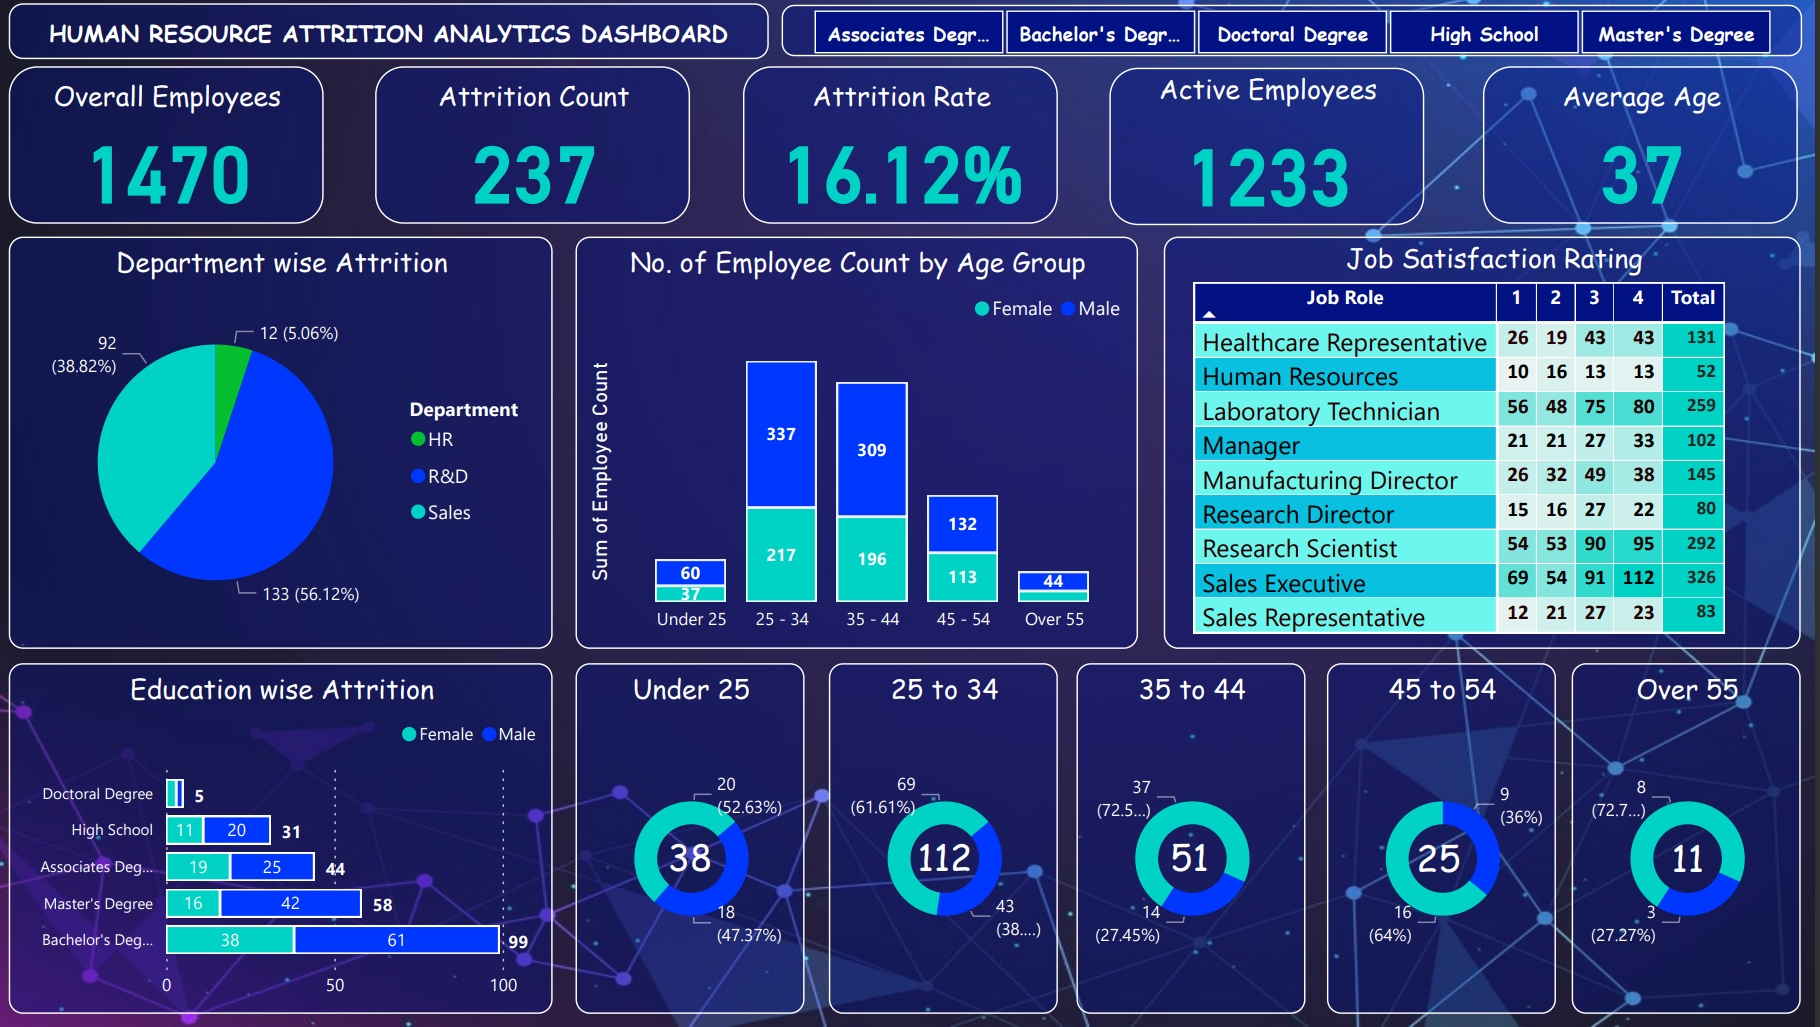

Layout of this report page (visuals, bound fields, positions):
{"tool":"powerbi","page":{"name":"Page 1","canvas":[1280,720],"ordinal":0},"visuals":[{"type":"card","title":"Overall Employees","fields":{"Values":["Sum(HR data.Employee Count)"]},"box":[17.5,49,220,110],"z":0},{"type":"card","title":"Attrition Count","fields":{"Values":["Sum(HR data.Attrition Count)"]},"box":[273.8,48.8,220,110],"z":1},{"type":"card","title":"Attrition Rate","fields":{"Values":["HR data.Attrition Rate"]},"box":[531.2,48.8,220,110],"z":2},{"type":"card","title":"Active Employees","fields":{"Values":["HR data.Active Employees"]},"box":[787,50,220,110],"z":3},{"type":"card","title":"Average Age","fields":{"Values":["Avg(HR data.Age)"]},"box":[1047.5,48.8,220,110],"z":4},{"type":"pieChart","title":"Department wise Attrition","fields":{"Category":["HR data.Department","HR data.Gender","HR data.CF_age band"],"Y":["Sum(HR data.Attrition Count)"]},"box":[17.5,167.5,380,287.5],"z":5},{"type":"columnChart","title":"No. of Employee Count by Age Group","fields":{"Category":["HR data.CF_age band"],"Y":["Sum(HR data.Employee Count)"],"Series":["HR data.Gender"]},"box":[413.8,167.5,392.5,287.5],"z":6},{"type":"pivotTable","title":"Job Satisfaction Rating","fields":{"Rows":["HR data.Job Role"],"Columns":["HR data.Job Satisfaction"],"Values":["Sum(HR data.Employee Count)"]},"box":[825,167.5,445,287.5],"z":7},{"type":"barChart","title":"Education wise Attrition","fields":{"Category":["HR data.Education"],"Y":["Sum(HR data.Attrition Count)"],"Series":["HR data.Gender"]},"box":[17.5,466.2,380,245],"z":8},{"type":"donutChart","title":"Under 25","fields":{"Category":["HR data.Gender"],"Y":["Sum(HR data.Attrition Count)"],"Series":["HR data.CF_age band"]},"box":[413.8,466.2,160,245],"z":9},{"type":"donutChart","title":"25 to 34","fields":{"Category":["HR data.Gender"],"Y":["Sum(HR data.Attrition Count)"],"Series":["HR data.CF_age band"]},"box":[591.2,466.2,160,245],"z":10},{"type":"donutChart","title":"35 to 44","fields":{"Category":["HR data.Gender"],"Y":["Sum(HR data.Attrition Count)"],"Series":["HR data.CF_age band"]},"box":[763.8,466.2,160,245],"z":11},{"type":"donutChart","title":"45 to 54","fields":{"Category":["HR data.Gender"],"Y":["Sum(HR data.Attrition Count)"],"Series":["HR data.CF_age band"]},"box":[938.8,466.2,160,245],"z":12},{"type":"donutChart","title":"Over 55","fields":{"Category":["HR data.Gender"],"Y":["Sum(HR data.Attrition Count)"],"Series":["HR data.CF_age band"]},"box":[1110,466.2,160,245],"z":13},{"type":"card","fields":{"Values":["Sum(HR data.Attrition Count)"]},"box":[461,580,66,45],"z":14},{"type":"card","fields":{"Values":["Sum(HR data.Attrition Count)"]},"box":[638.8,580,66.2,45],"z":15},{"type":"card","fields":{"Values":["Sum(HR data.Attrition Count)"]},"box":[810,580,66.2,45],"z":16},{"type":"card","fields":{"Values":["Sum(HR data.Attrition Count)"]},"box":[983.8,581.2,66.2,45],"z":17},{"type":"card","fields":{"Values":["Sum(HR data.Attrition Count)"]},"box":[1157.5,581.2,66.2,45],"z":18},{"type":"textbox","box":[17.5,5,531.2,38.8],"z":19},{"type":"slicer","fields":{"Values":["HR data.Education"]},"box":[557.5,6.2,712.5,36.2],"z":20}]}

Visuals, with their boxes in screenshot pixels (x1, y1, x2, y2), scaled from the page's 1280x720 canvas onto the 1820x1027 screenshot:
"Overall Employees" card: <region>25, 70, 338, 227</region>
"Attrition Count" card: <region>389, 70, 702, 227</region>
"Attrition Rate" card: <region>755, 70, 1068, 227</region>
"Active Employees" card: <region>1119, 71, 1432, 228</region>
"Average Age" card: <region>1489, 70, 1802, 227</region>
"Department wise Attrition" pieChart: <region>25, 239, 565, 649</region>
"No. of Employee Count by Age Group" columnChart: <region>588, 239, 1146, 649</region>
"Job Satisfaction Rating" pivotTable: <region>1173, 239, 1806, 649</region>
"Education wise Attrition" barChart: <region>25, 665, 565, 1014</region>
"Under 25" donutChart: <region>588, 665, 816, 1014</region>
"25 to 34" donutChart: <region>841, 665, 1068, 1014</region>
"35 to 44" donutChart: <region>1086, 665, 1314, 1014</region>
"45 to 54" donutChart: <region>1335, 665, 1562, 1014</region>
"Over 55" donutChart: <region>1578, 665, 1806, 1014</region>
card - Sum(HR data.Attrition Count): <region>655, 827, 749, 891</region>
card - Sum(HR data.Attrition Count): <region>908, 827, 1002, 891</region>
card - Sum(HR data.Attrition Count): <region>1152, 827, 1246, 891</region>
card - Sum(HR data.Attrition Count): <region>1399, 829, 1493, 893</region>
card - Sum(HR data.Attrition Count): <region>1646, 829, 1740, 893</region>
textbox: <region>25, 7, 780, 62</region>
slicer - HR data.Education: <region>793, 9, 1806, 60</region>
